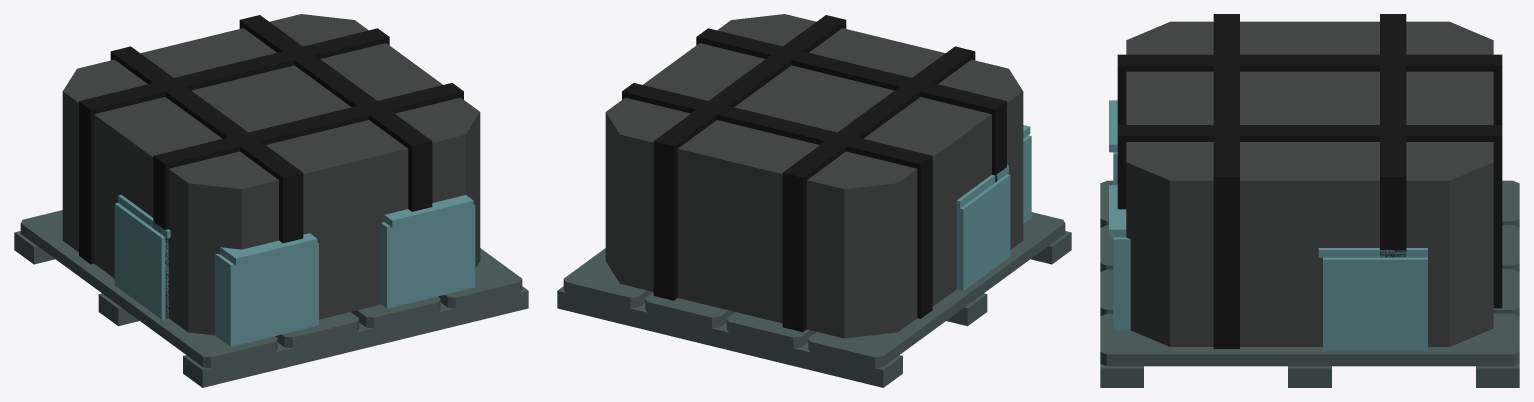
File: pallet_medicine_closed.obj
The picture shows the model from 3 angles, left to right: view 1: azimuth 30°, elevation 25°; view 2: azimuth 150°, elevation 25°; view 3: azimuth 270°, elevation 25°; orthographic projection. The views are drawn at different scales.
Visible parts, largest first — view 1: pallet_medicine_closed; view 2: pallet_medicine_closed; view 3: pallet_medicine_closed.
Part boxes in pixels (x1,y1,x2,y2): pallet_medicine_closed: (14, 14, 528, 387); pallet_medicine_closed: (557, 14, 1071, 387); pallet_medicine_closed: (1100, 14, 1519, 387).
Bounding box in the file's own units: 1.92 × 1.03 × 1.92.
